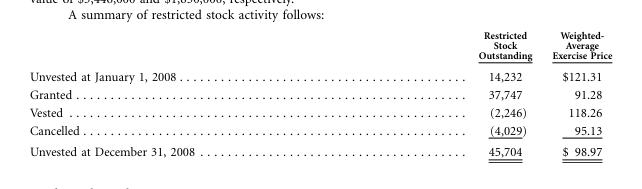table: (28, 29, 611, 158)
table column: (28, 29, 335, 158), (335, 29, 541, 158), (541, 29, 611, 158)
table column header: (28, 29, 611, 65)
table row: (28, 29, 611, 65), (28, 65, 611, 85), (28, 121, 611, 140), (28, 85, 611, 103), (28, 103, 611, 121), (28, 140, 611, 158)
